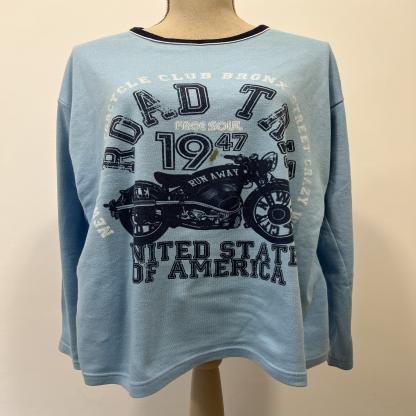stain: (205, 148, 227, 167)
